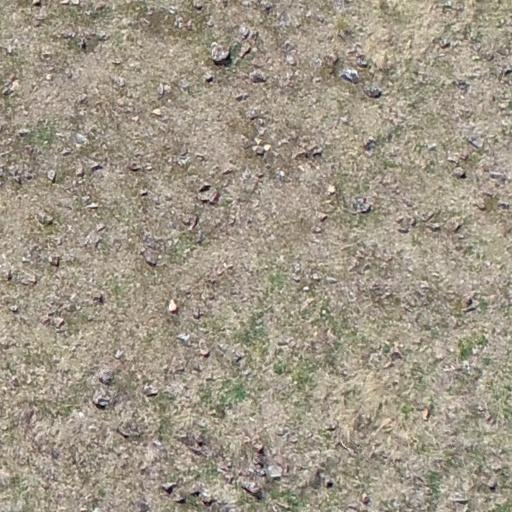stone: (294, 144, 324, 161), (84, 224, 106, 247), (197, 184, 219, 205), (210, 43, 231, 64), (184, 175, 211, 191), (240, 480, 264, 498), (92, 389, 112, 409), (351, 196, 372, 214), (339, 68, 361, 84), (451, 79, 472, 94), (141, 250, 159, 267), (97, 369, 115, 385), (265, 464, 283, 480), (248, 70, 268, 84), (362, 85, 382, 99), (323, 53, 339, 70), (238, 42, 253, 60), (156, 82, 172, 98), (36, 212, 54, 226), (190, 484, 208, 498), (447, 492, 467, 504), (388, 344, 403, 360), (111, 75, 127, 90), (238, 24, 252, 40), (143, 383, 159, 397), (447, 219, 463, 233), (33, 8, 49, 22), (160, 482, 178, 494), (199, 495, 217, 507), (446, 151, 462, 164), (355, 54, 369, 68), (498, 66, 512, 80), (24, 144, 38, 158), (452, 167, 468, 179), (466, 137, 482, 149), (291, 149, 307, 161), (74, 132, 88, 145), (362, 138, 376, 151), (489, 171, 507, 181), (487, 476, 499, 490), (3, 268, 13, 284), (48, 255, 61, 267), (322, 475, 334, 488), (173, 493, 187, 504), (179, 431, 190, 445), (16, 128, 31, 138), (284, 54, 296, 66), (78, 95, 90, 107), (2, 85, 14, 97), (46, 169, 56, 183), (168, 299, 178, 313), (235, 92, 249, 102), (75, 164, 85, 178), (474, 201, 488, 211), (324, 422, 338, 432), (114, 348, 125, 360), (10, 78, 20, 91), (128, 162, 141, 172), (204, 71, 214, 84), (94, 1, 107, 11), (84, 202, 100, 210), (181, 214, 192, 225), (56, 317, 66, 329), (254, 146, 266, 156), (439, 40, 451, 50), (254, 442, 264, 454), (311, 270, 321, 282), (382, 360, 395, 369), (396, 226, 410, 234), (426, 224, 442, 231), (199, 347, 210, 357), (276, 427, 287, 437), (152, 108, 164, 117), (361, 492, 370, 504), (422, 408, 430, 421), (325, 277, 338, 285), (318, 212, 328, 222), (9, 304, 19, 314), (192, 0, 202, 10), (327, 184, 336, 195), (312, 226, 324, 234), (254, 137, 263, 146), (292, 276, 302, 284), (298, 164, 306, 173), (164, 193, 173, 201), (263, 144, 271, 152), (396, 214, 404, 222), (131, 115, 140, 122), (70, 0, 82, 5), (45, 73, 52, 81), (140, 189, 148, 196), (410, 218, 417, 226), (154, 196, 160, 204)
